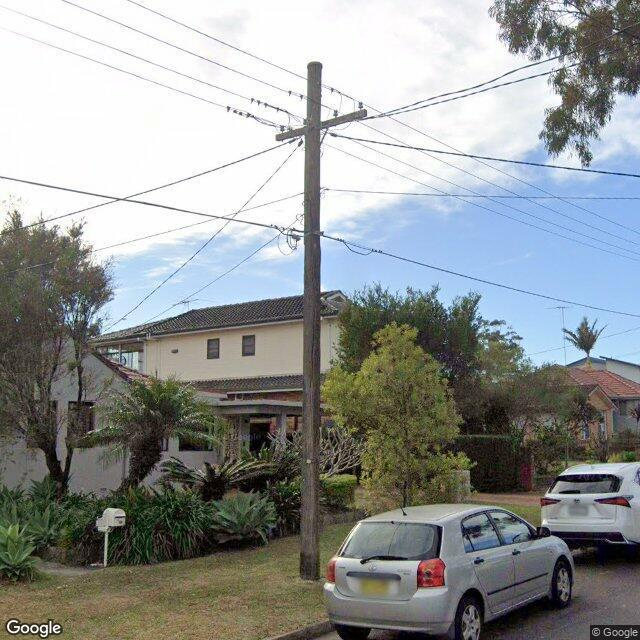crossarm: (276, 109, 368, 142)
timber-pole: (297, 62, 324, 581)
